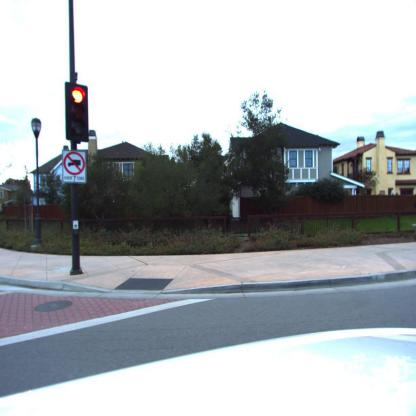traffic light: (66, 82, 90, 144)
